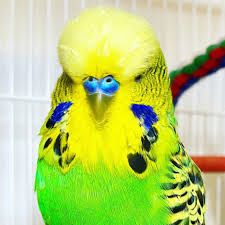budgie: (34, 9, 204, 225)
